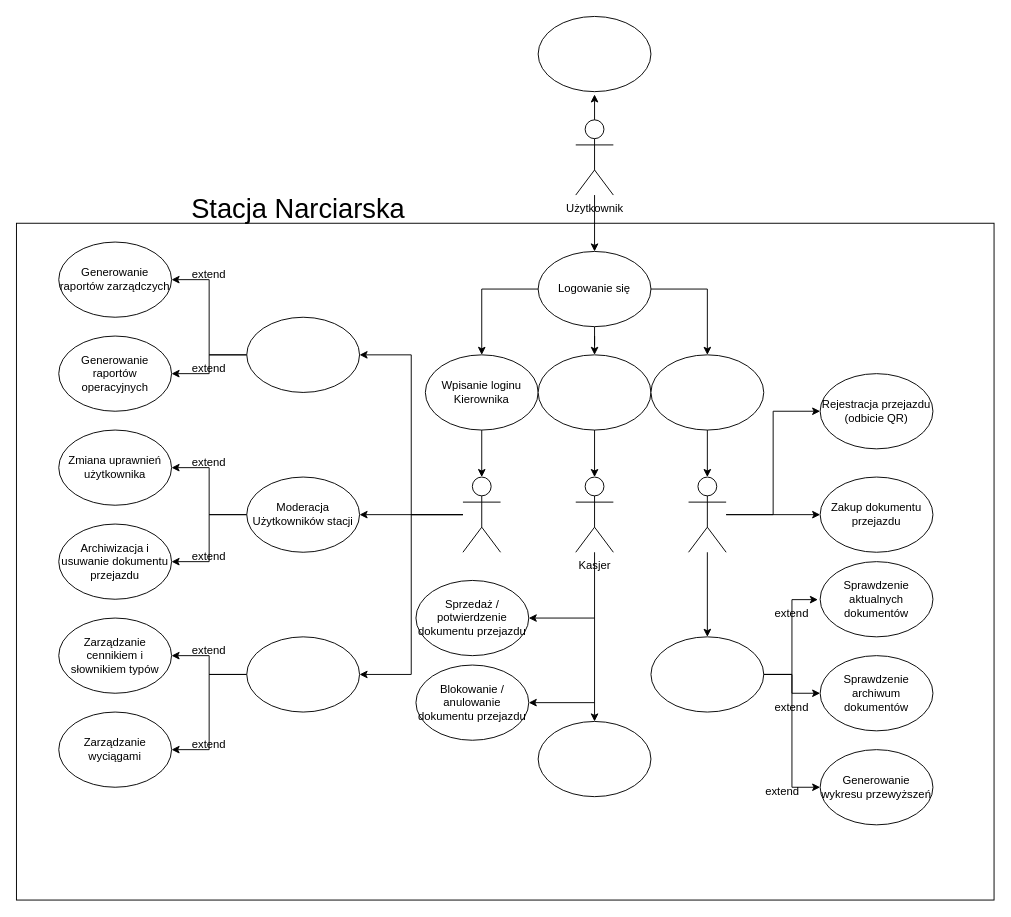
Some shapes in this 1011 by 917 pixel diagram are drawn without their labels. Here are the shapes that lost their labels. From the top down, the centre of each, then its label:
the point at 594,54: Rejestracja konta Narciarza
the point at 303,354: Generowanie raportów
the point at 594,392: Wpisanie loginu Kasjera
the point at 707,392: Wpisanie loginu Narciarza
the point at 481,514: Kierownik
the point at 707,514: Narciarz
the point at 303,674: Zarządzanie stacją narciarską
the point at 707,674: Sprawdzenie dokumentów przejazdu
the point at 594,759: Wydruk historii dla narciarza
